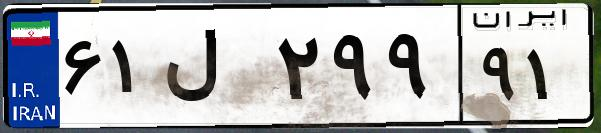1: (525, 38, 570, 115), (110, 28, 158, 98)
2: (270, 28, 330, 110)
6: (57, 26, 110, 100)
9: (385, 28, 445, 110), (330, 28, 385, 110), (475, 38, 525, 113)
ل: (158, 20, 270, 120)
